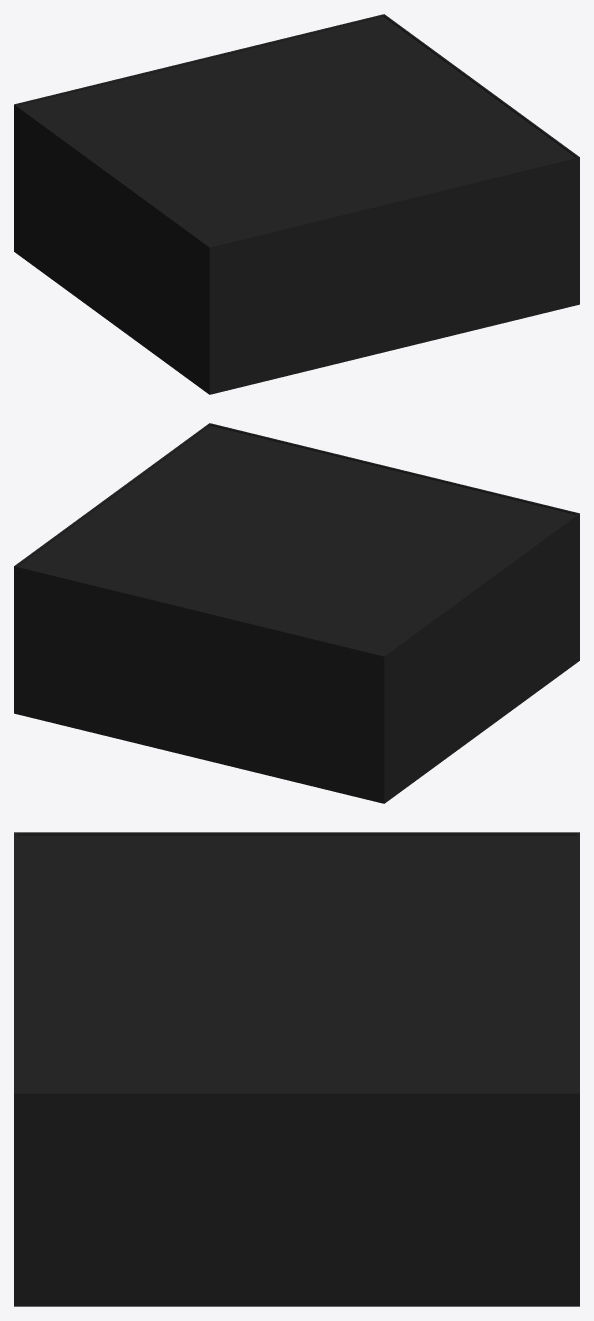
File: Ruffy_movie_theater_insidefbx.fbx
The picture shows the model from 3 angles, top to bottom: view 1: azimuth 30°, elevation 25°; view 2: azimuth 150°, elevation 25°; view 3: azimuth 270°, elevation 25°; orthographic projection. The views are drawn at different scales.
Parts seen in each view (by area): view 1: Ruffy_theater_inside, Plane.003; view 2: Ruffy_theater_inside, Plane.003; view 3: Plane.003, Ruffy_theater_inside.
Boxes of the visible parts, x1,y1,x2,y2 form: Ruffy_theater_inside: (14,14,579,394); Plane.003: (18,16,574,246); Ruffy_theater_inside: (14,423,579,803); Plane.003: (19,425,575,655); Plane.003: (17,835,576,1092); Ruffy_theater_inside: (14,832,579,1306).
Bounding box in the file's own units: 8100 × 3079 × 7412.
Materials: 1 (1 with a texture image).
